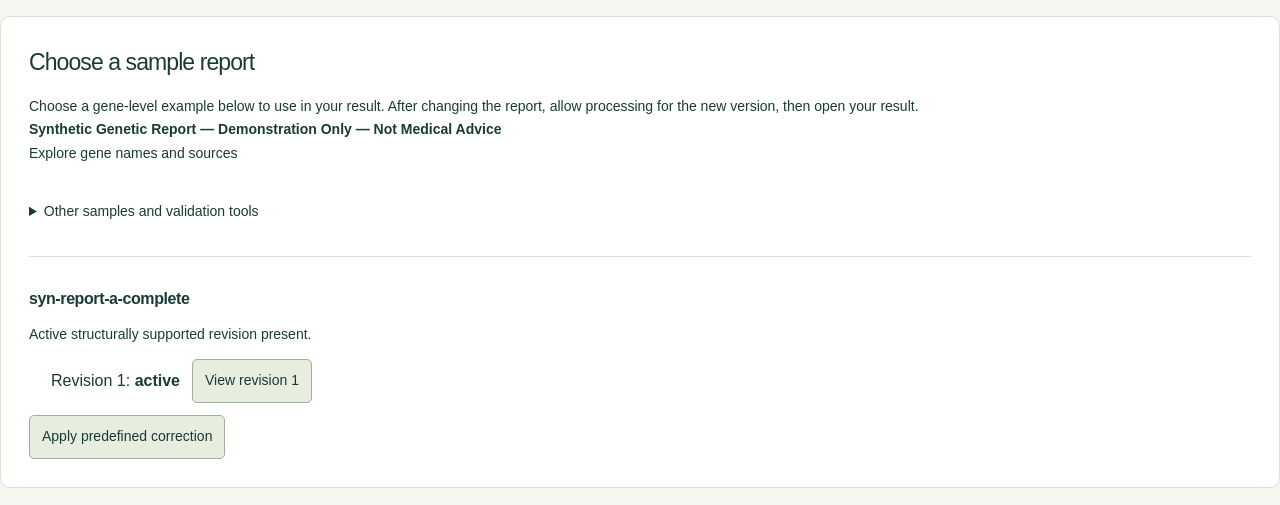
Test: fictional report management › applies the predefined amendment to the selected owned report and version
Click the button "Apply predefined correction" at (127, 437), box [29, 415, 225, 459]
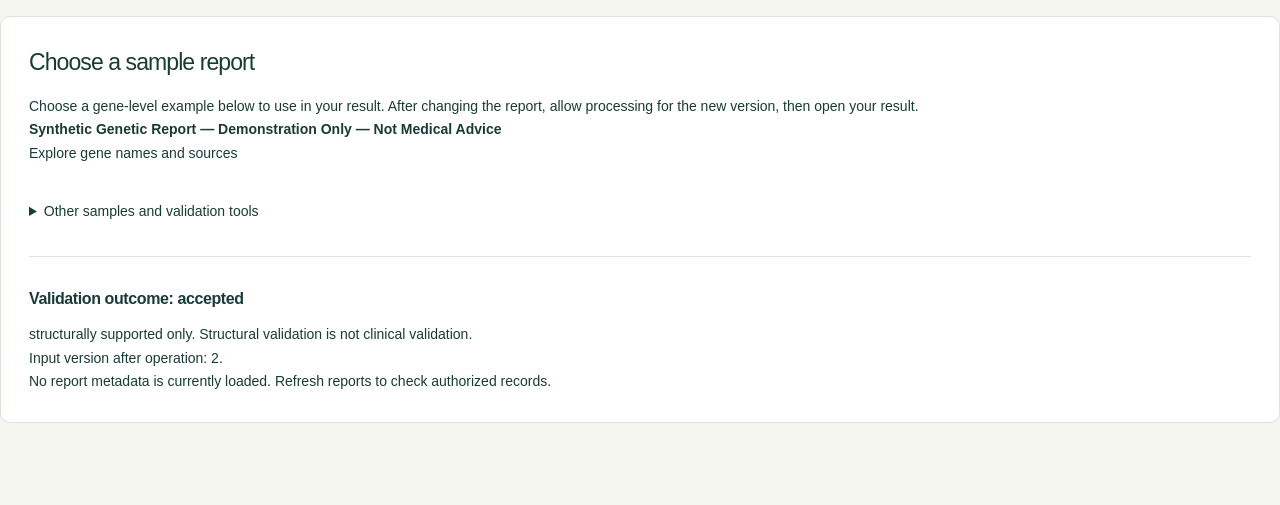
Result: the heading "Validation outcome: accepted" is shown at [29, 290, 244, 307]
